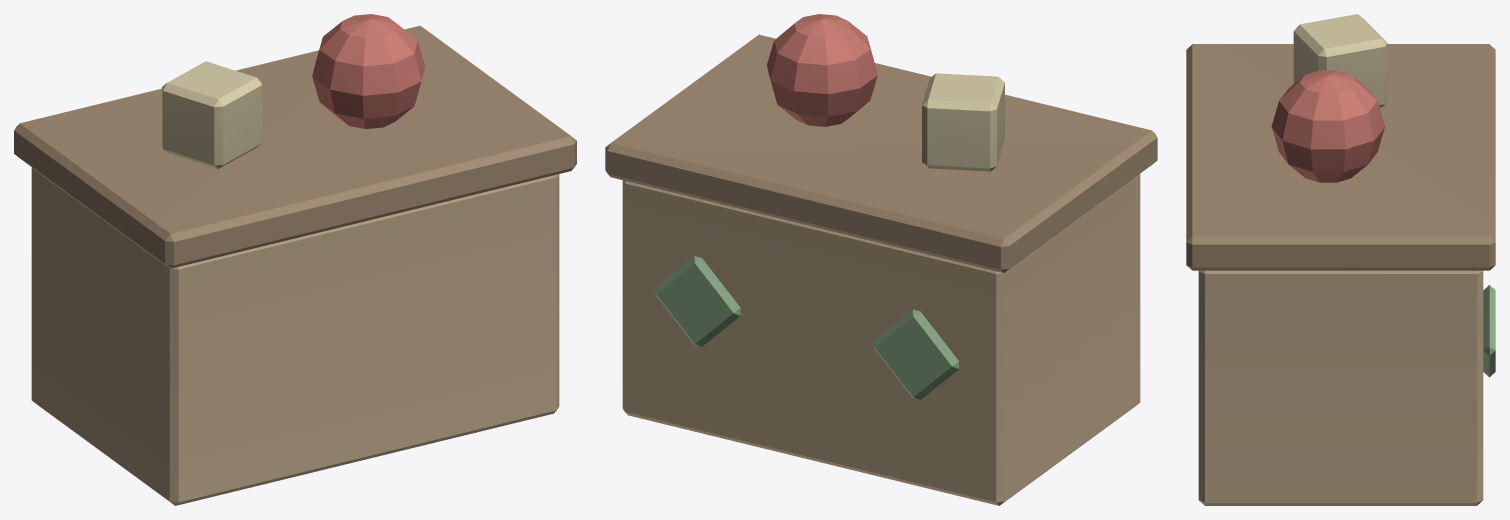
File: furn_toy_box__oak.glb
The picture shows the model from 3 angles, left to right: view 1: azimuth 30°, elevation 25°; view 2: azimuth 150°, elevation 25°; view 3: azimuth 270°, elevation 25°; orthographic projection.
Size of the model in its own units: 0.74 by 0.65 by 0.49.
